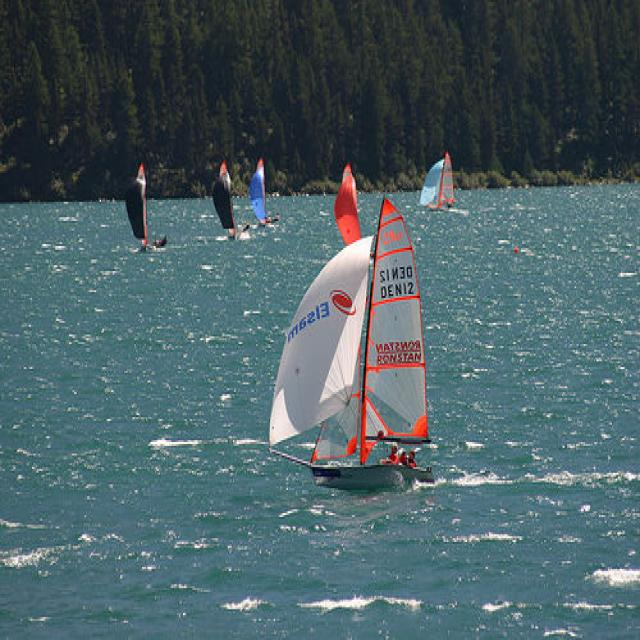boat: (267, 191, 431, 501), (115, 159, 163, 261), (210, 159, 252, 243), (248, 149, 280, 232), (417, 151, 459, 214), (334, 163, 364, 245)
